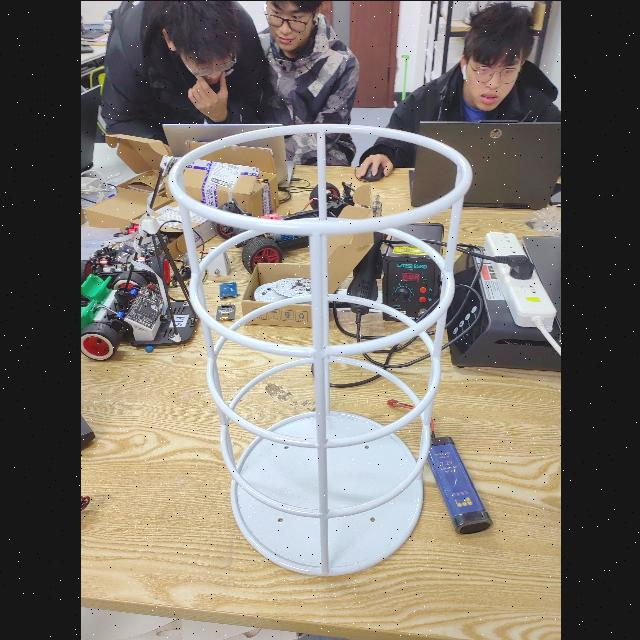S: (162, 114, 474, 578)
